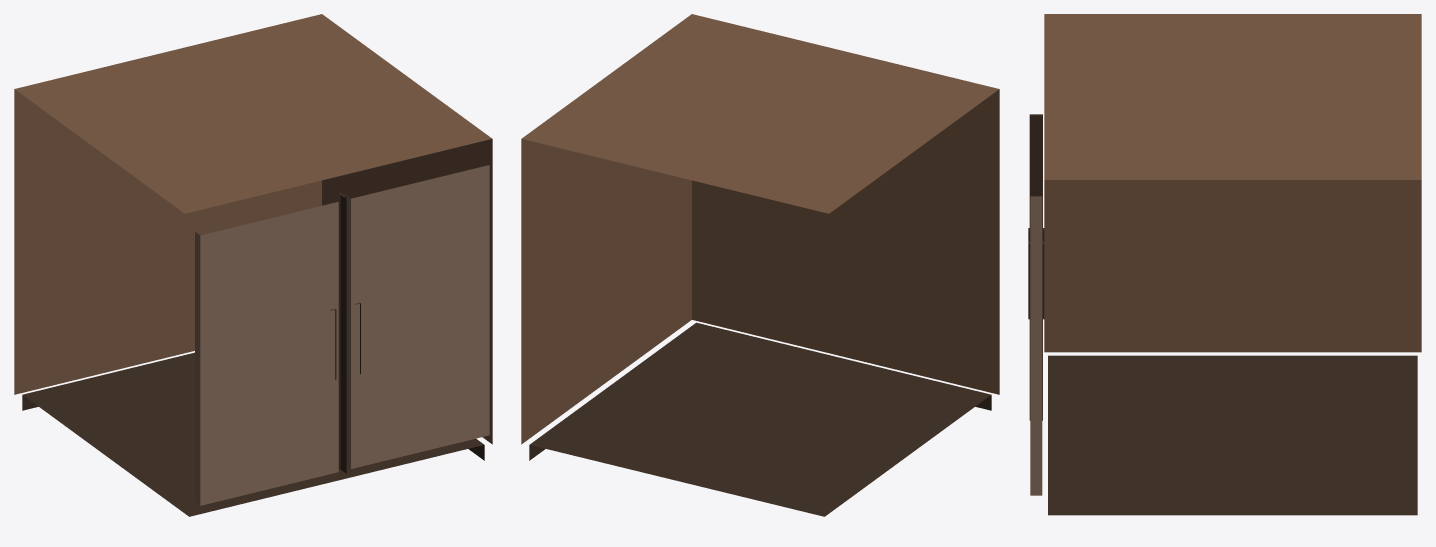
File: Wardrobe-brown.glb
3 views of the same model, side by side, from view 1: azimuth 30°, elevation 25°; view 2: azimuth 150°, elevation 25°; view 3: azimuth 270°, elevation 25° (orthographic). The views are drawn at different scales.
Parts seen in each view (by area): view 1: Wardrobe; view 2: Wardrobe; view 3: Wardrobe.
Boxes of the visible parts, x1,y1,x2,y2 form: Wardrobe: (14,14,492,516); Wardrobe: (521,14,999,516); Wardrobe: (1028,14,1421,515).
Bounding box in the file's own units: 1 × 1 × 1.
